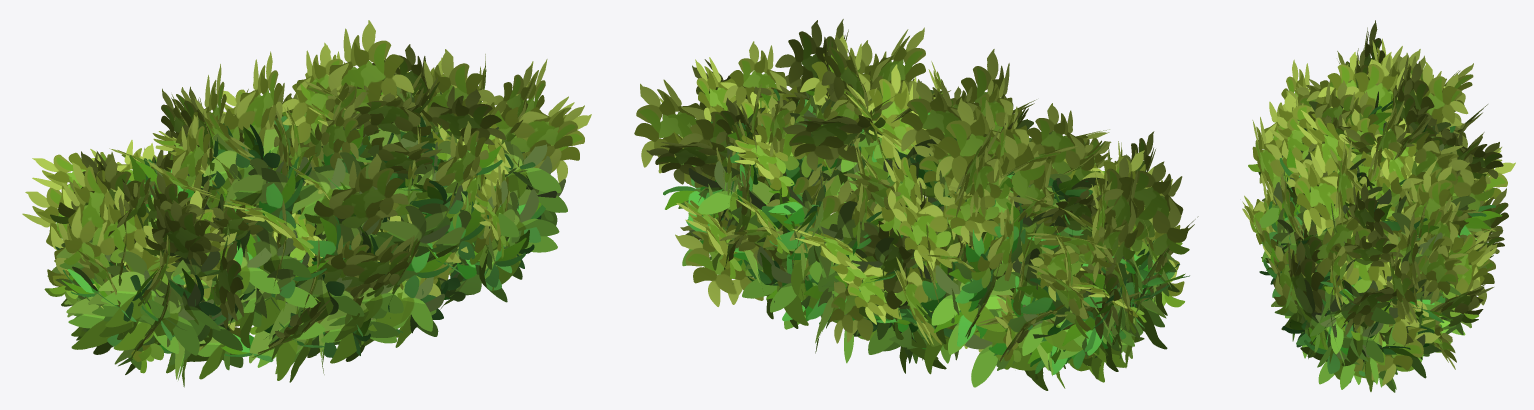
The model's file is bush4.fbx.
The picture shows the model from 3 angles, left to right: view 1: azimuth 30°, elevation 25°; view 2: azimuth 150°, elevation 25°; view 3: azimuth 270°, elevation 25°; orthographic projection. The views are drawn at different scales.
Parts seen in each view (by area): view 1: transp.001; view 2: transp.001; view 3: transp.001.
Part boxes in pixels (box(x1,y1,x2,y2)): transp.001: box(22, 20, 591, 387); transp.001: box(634, 19, 1198, 390); transp.001: box(1242, 20, 1515, 392).
Bounding box in the file's own units: 522 × 306 × 268.
